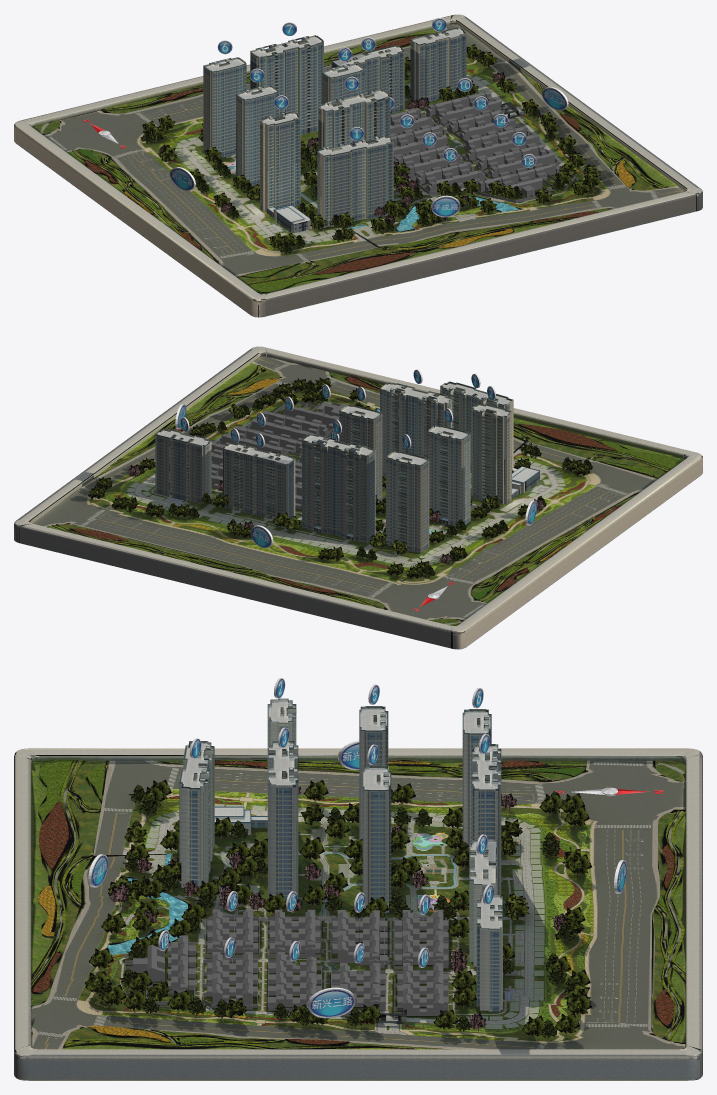
File: shapan.obj
3 views of the same model, one above another, from view 1: azimuth 30°, elevation 25°; view 2: azimuth 150°, elevation 25°; view 3: azimuth 270°, elevation 25° (orthographic). The views are drawn at different scales.
Visible parts, largest first — view 1: Geometry_122, Geometry_94, Geometry_pngtree, d10, d1, d7, d2, d9, d6, d3, Geometry_130, d5 (+5 smaller); view 2: Geometry_122, Geometry_94, Geometry_pngtree, d7, d8, d10, d6, d3, d5, d2, d9, d4 (+4 smaller); view 3: Geometry_122, Geometry_94, Geometry_pngtree, d10, d3, d1, d4, Geometry_130, d7, d9, Geometry_128, d8 (+6 smaller).
Part boxes in pixels (x1,y1,x2,y2): Geometry_122: [32, 24, 684, 293]; Geometry_94: [14, 14, 702, 317]; Geometry_pngtree: [140, 44, 600, 254]; d10: [390, 91, 575, 202]; d1: [317, 136, 393, 227]; d7: [250, 35, 323, 135]; d2: [260, 112, 300, 212]; d9: [410, 27, 466, 101]; d6: [203, 57, 246, 157]; d3: [318, 89, 389, 149]; Geometry_130: [217, 18, 536, 167]; d5: [236, 85, 279, 185]; Geometry_122: [32, 356, 684, 625]; Geometry_94: [14, 346, 702, 649]; Geometry_pngtree: [88, 377, 593, 578]; d7: [302, 434, 375, 542]; d8: [223, 442, 295, 519]; d10: [211, 401, 346, 509]; d6: [386, 450, 429, 552]; d3: [380, 382, 452, 477]; d5: [427, 425, 470, 526]; d2: [471, 403, 511, 504]; d9: [155, 428, 211, 504]; d4: [339, 404, 382, 502]; Geometry_122: [31, 759, 685, 1049]; Geometry_94: [14, 748, 702, 1080]; Geometry_pngtree: [85, 779, 591, 1037]; d10: [125, 909, 448, 1015]; d3: [268, 740, 298, 907]; d1: [179, 741, 214, 887]; d4: [362, 765, 391, 913]; Geometry_130: [158, 678, 494, 967]; d7: [471, 744, 501, 895]; d9: [476, 894, 502, 1011]; Geometry_128: [88, 740, 626, 1018]; d8: [469, 839, 497, 966].
Bounding box in the file's own units: 4278 × 1131 × 4030.
